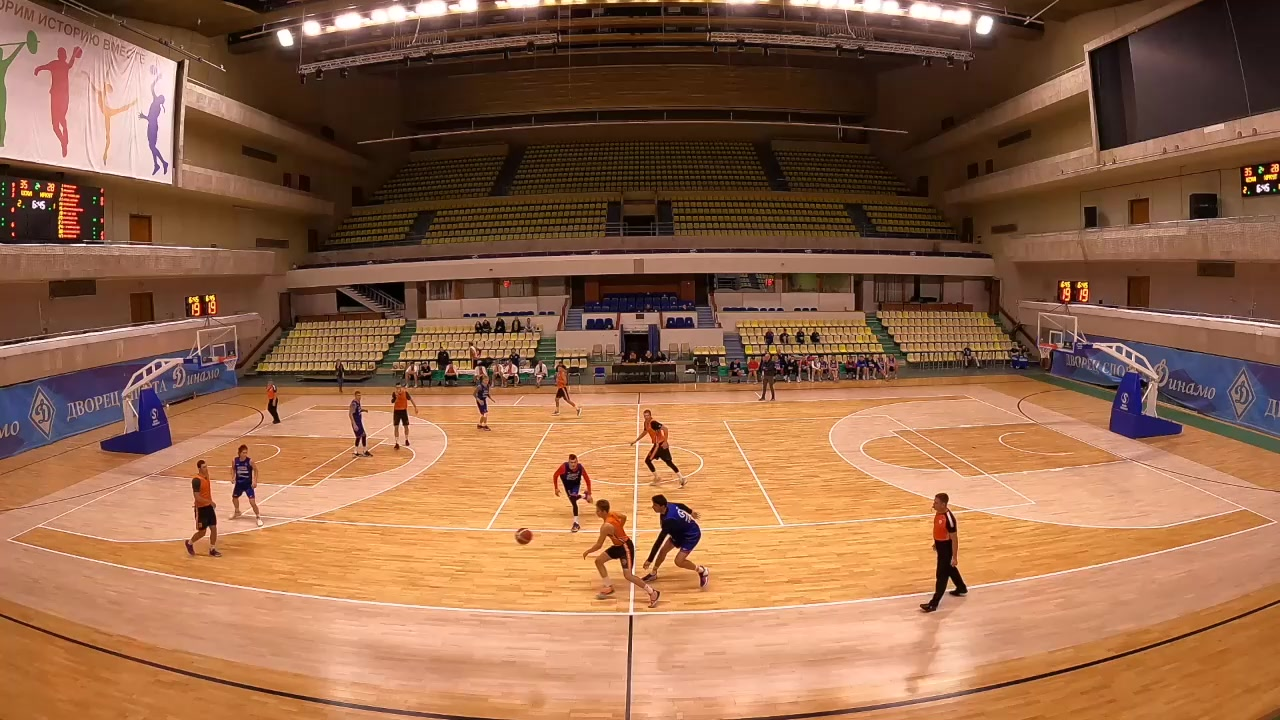basketball: (233, 602, 273, 634)
